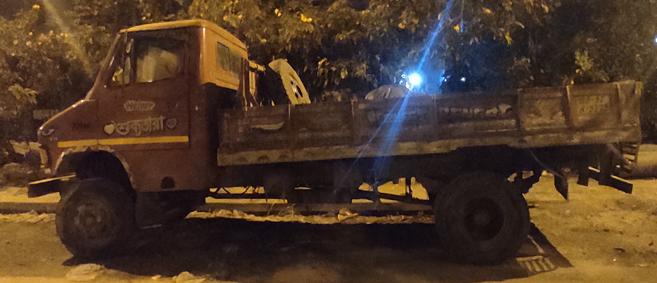Truck: (27, 17, 645, 257)
